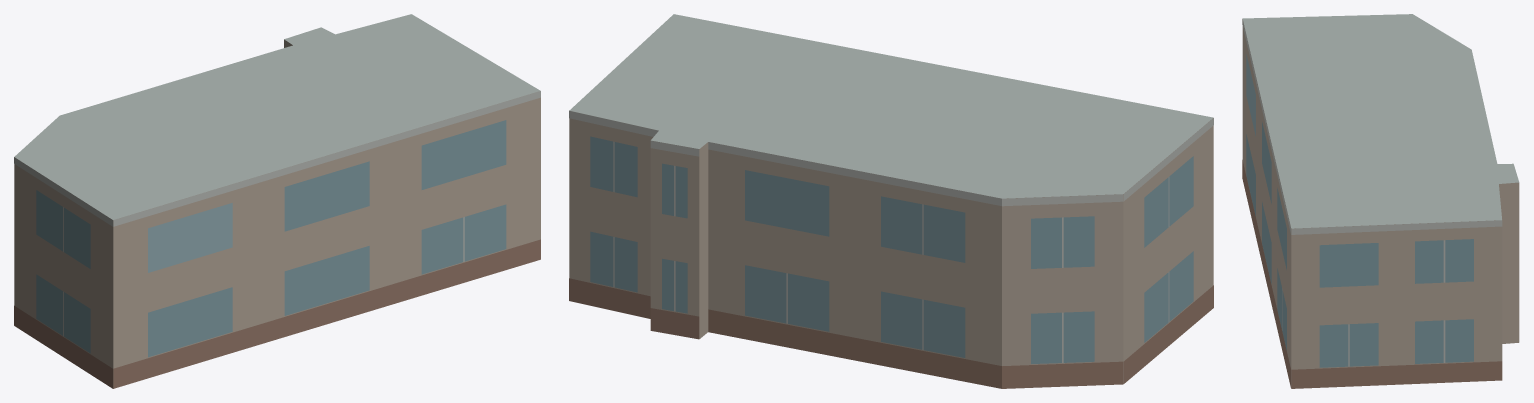
Rendered from survey-upis-32960395.glb.
The picture shows the model from 3 angles, left to right: view 1: azimuth 30°, elevation 25°; view 2: azimuth 150°, elevation 25°; view 3: azimuth 270°, elevation 25°; orthographic projection. The views are drawn at different scales.
Visible parts, largest first — view 1: survey-upis-32960395.tmp; view 2: survey-upis-32960395.tmp; view 3: survey-upis-32960395.tmp.
Part boxes in pixels (x1,y1,x2,y2): survey-upis-32960395.tmp: (14, 14, 540, 388); survey-upis-32960395.tmp: (569, 14, 1213, 388); survey-upis-32960395.tmp: (1242, 14, 1519, 388).
Bounding box in the file's own units: 17.52 × 6.1 × 9.56.
